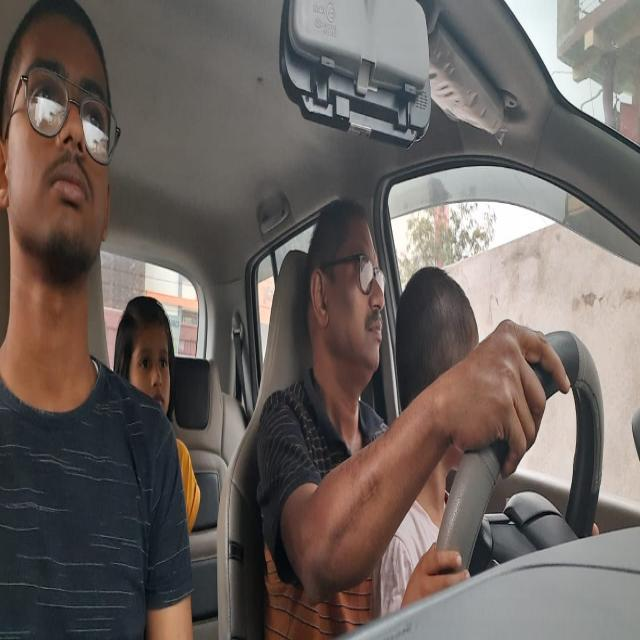child: (396, 260, 481, 454)
person: (2, 0, 118, 330), (304, 197, 386, 390), (113, 290, 176, 420)
